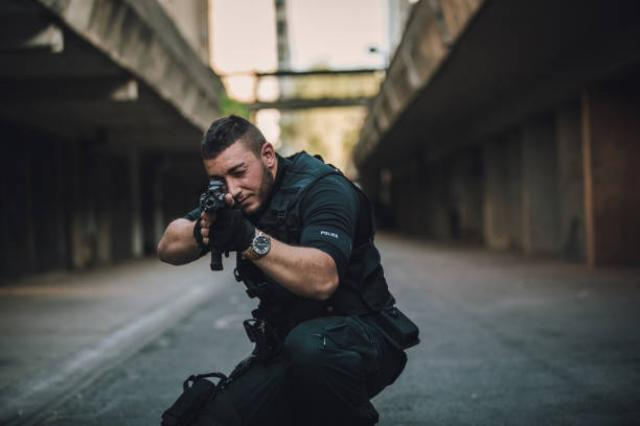other: (156, 115, 406, 422)
